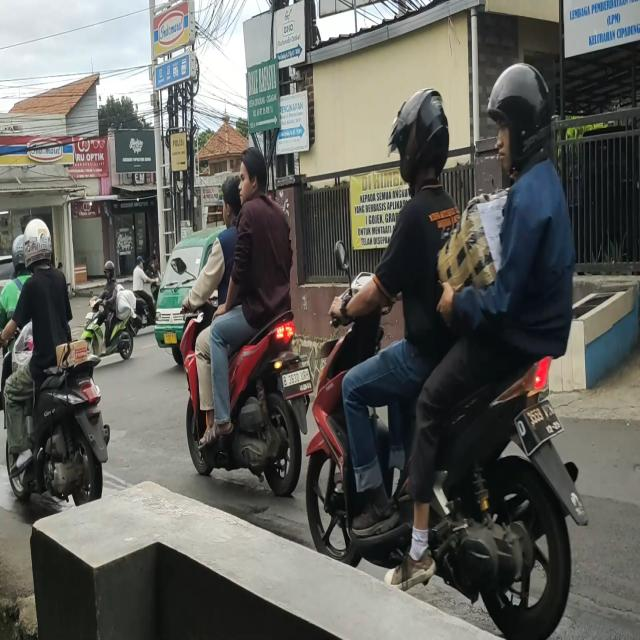helmet: (488, 62, 549, 165), (394, 91, 448, 180), (24, 217, 53, 269), (13, 235, 25, 268), (103, 260, 115, 284)
no-helmet: (240, 149, 266, 200), (221, 178, 244, 230), (136, 256, 145, 270)
